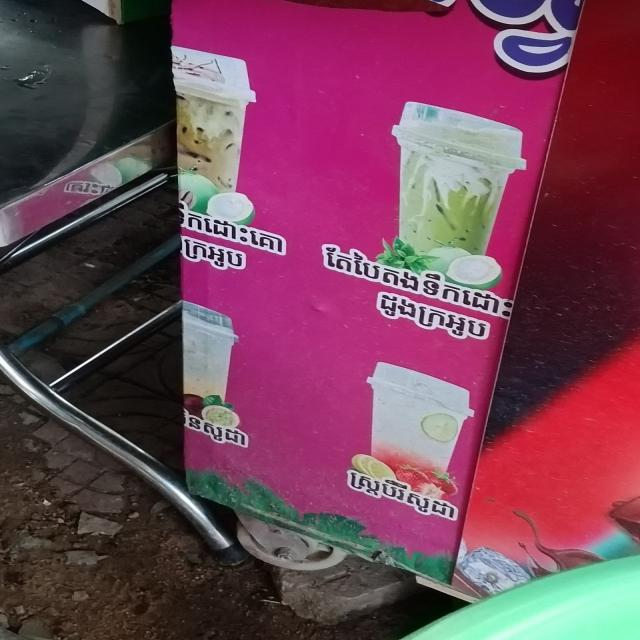Yolov11kh: (313, 233, 514, 323), (331, 464, 465, 534), (364, 284, 496, 349), (181, 206, 295, 262), (177, 230, 254, 278), (195, 412, 257, 458)
